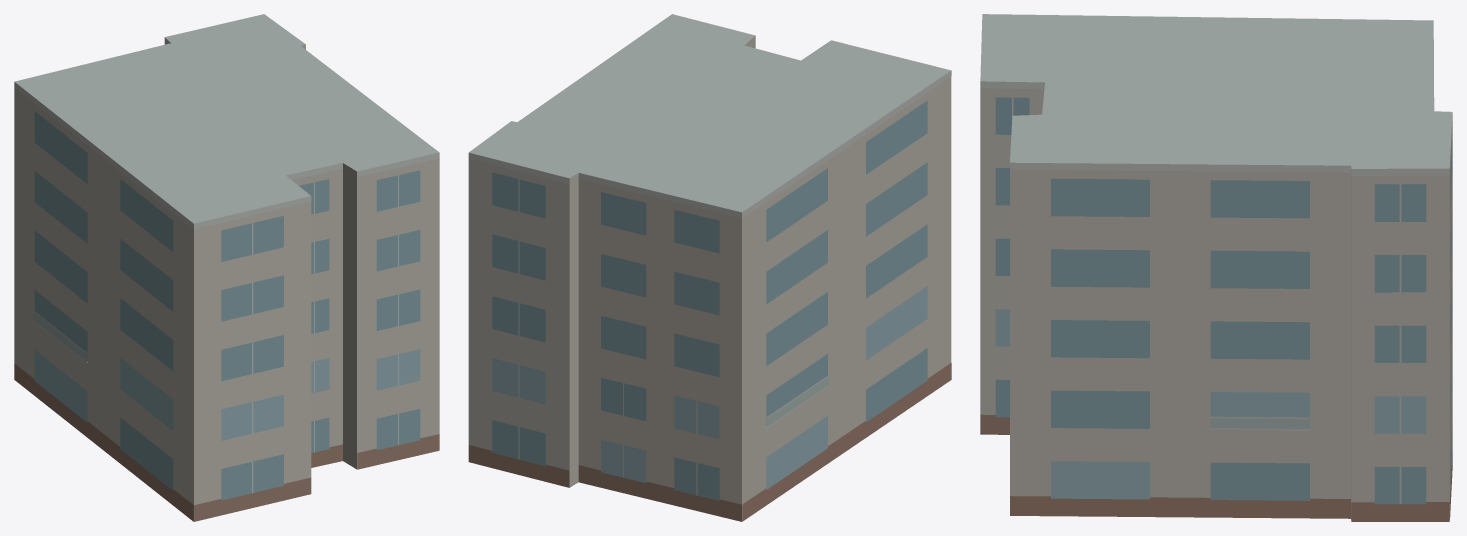
The model's file is survey-upis-32605411.glb.
3 views of the same model, side by side, from view 1: azimuth 30°, elevation 25°; view 2: azimuth 150°, elevation 25°; view 3: azimuth 270°, elevation 25° (orthographic). The views are drawn at different scales.
Parts seen in each view (by area): view 1: survey-upis-32605411.tmp; view 2: survey-upis-32605411.tmp; view 3: survey-upis-32605411.tmp.
Boxes of the visible parts, x1,y1,x2,y2 form: survey-upis-32605411.tmp: (14,14,439,521); survey-upis-32605411.tmp: (468,14,951,521); survey-upis-32605411.tmp: (980,14,1452,521).
Size of the model in its own units: 11.81 by 12.55 by 15.23.
